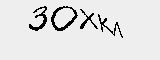З: (27, 5, 52, 32)
К: (95, 14, 112, 36)
Л: (111, 19, 123, 40)
О: (52, 5, 77, 33)
Х: (78, 9, 97, 32)
